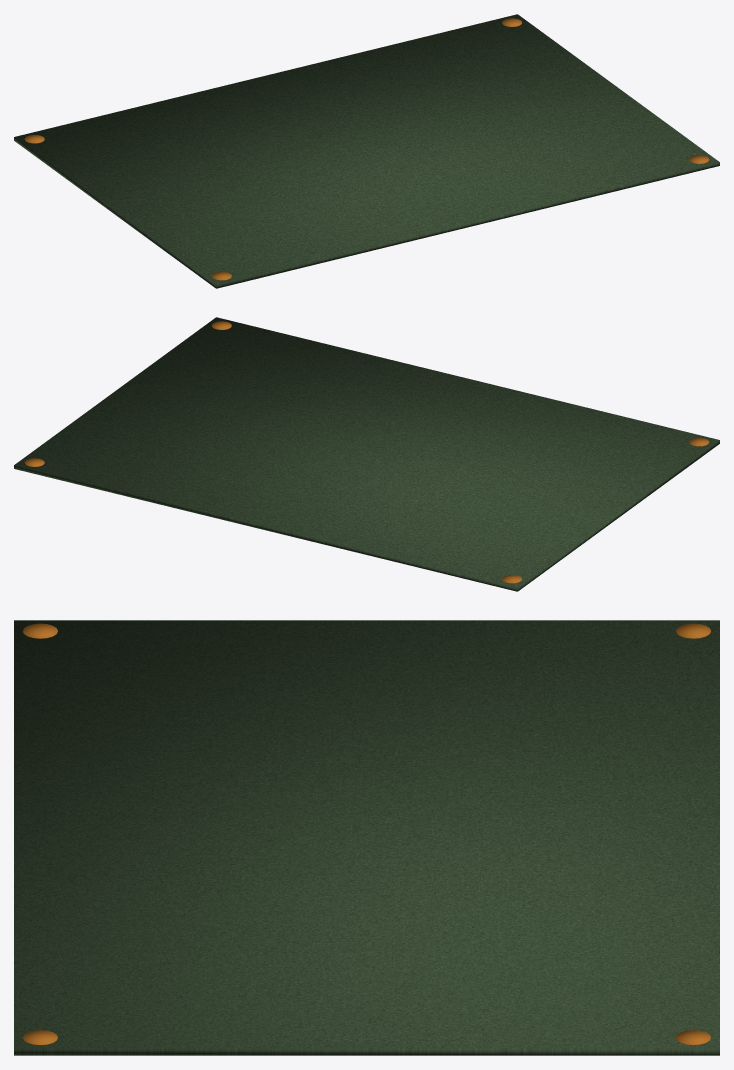
File: 077_L101_PCB_FR4_Core.obj
3 views of the same model, one above another, from view 1: azimuth 30°, elevation 25°; view 2: azimuth 150°, elevation 25°; view 3: azimuth 270°, elevation 25° (orthographic). The views are drawn at different scales.
Visible parts, largest first — view 1: FR4_6Layer_Dielectric_0__PSMAT__FR4_Core; view 2: FR4_6Layer_Dielectric_0__PSMAT__FR4_Core; view 3: FR4_6Layer_Dielectric_0__PSMAT__FR4_Core.
Boxes of the visible parts, x1,y1,x2,y2 form: FR4_6Layer_Dielectric_0__PSMAT__FR4_Core: (14, 14, 719, 288); FR4_6Layer_Dielectric_0__PSMAT__FR4_Core: (14, 317, 719, 591); FR4_6Layer_Dielectric_0__PSMAT__FR4_Core: (14, 620, 719, 1055).
Size of the model in its own units: 0.23 by 0.00173 by 0.16.
